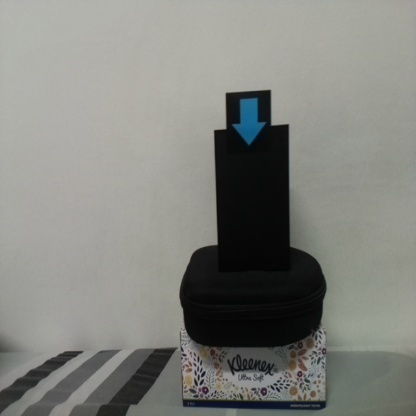id_2: (226, 93, 272, 155)
